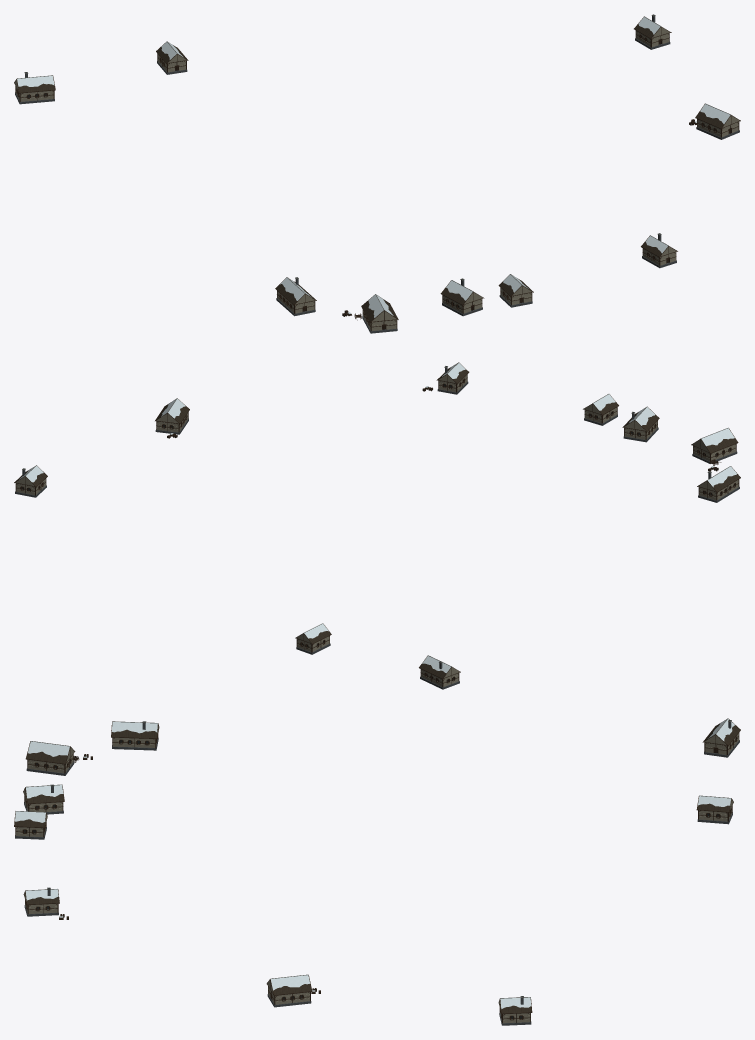
Rendered from service_buildings.glb.
The picture shows the model from 3 angles, top to bottom: view 1: azimuth 30°, elevation 25°; view 2: azimuth 150°, elevation 25°; view 3: azimuth 270°, elevation 25°; orthographic projection. The views are drawn at different scales.
Parts seen in each view (by area): view 1: ENV_R5_Plaster, ENV_R5_Timber, ENV_R5_Snow, ENV_R5_Shingle, ENV_R5_Stone; view 2: ENV_R5_Plaster, ENV_R5_Timber, ENV_R5_Snow, ENV_R5_Shingle, ENV_R5_Stone; view 3: ENV_R5_Snow, ENV_R5_Plaster, ENV_R5_Timber, ENV_R5_Shingle, ENV_R5_Stone.
Part boxes in pixels (bbox=[...]): ENV_R5_Plaster: bbox=[14, 27, 739, 330]; ENV_R5_Timber: bbox=[14, 17, 740, 331]; ENV_R5_Snow: bbox=[17, 17, 730, 317]; ENV_R5_Shingle: bbox=[18, 24, 723, 321]; ENV_R5_Stone: bbox=[15, 16, 739, 333]; ENV_R5_Plaster: bbox=[15, 375, 738, 686]; ENV_R5_Timber: bbox=[14, 362, 740, 687]; ENV_R5_Snow: bbox=[19, 363, 736, 673]; ENV_R5_Shingle: bbox=[15, 367, 740, 678]; ENV_R5_Stone: bbox=[15, 367, 739, 689]; ENV_R5_Snow: bbox=[15, 719, 734, 1008]; ENV_R5_Plaster: bbox=[16, 725, 738, 1023]; ENV_R5_Timber: bbox=[14, 718, 740, 1023]; ENV_R5_Shingle: bbox=[14, 724, 739, 1013]; ENV_R5_Stone: bbox=[15, 722, 739, 1025].
Size of the model in its own units: 317 by 14.86 by 335.
8 materials, 7 textured.
